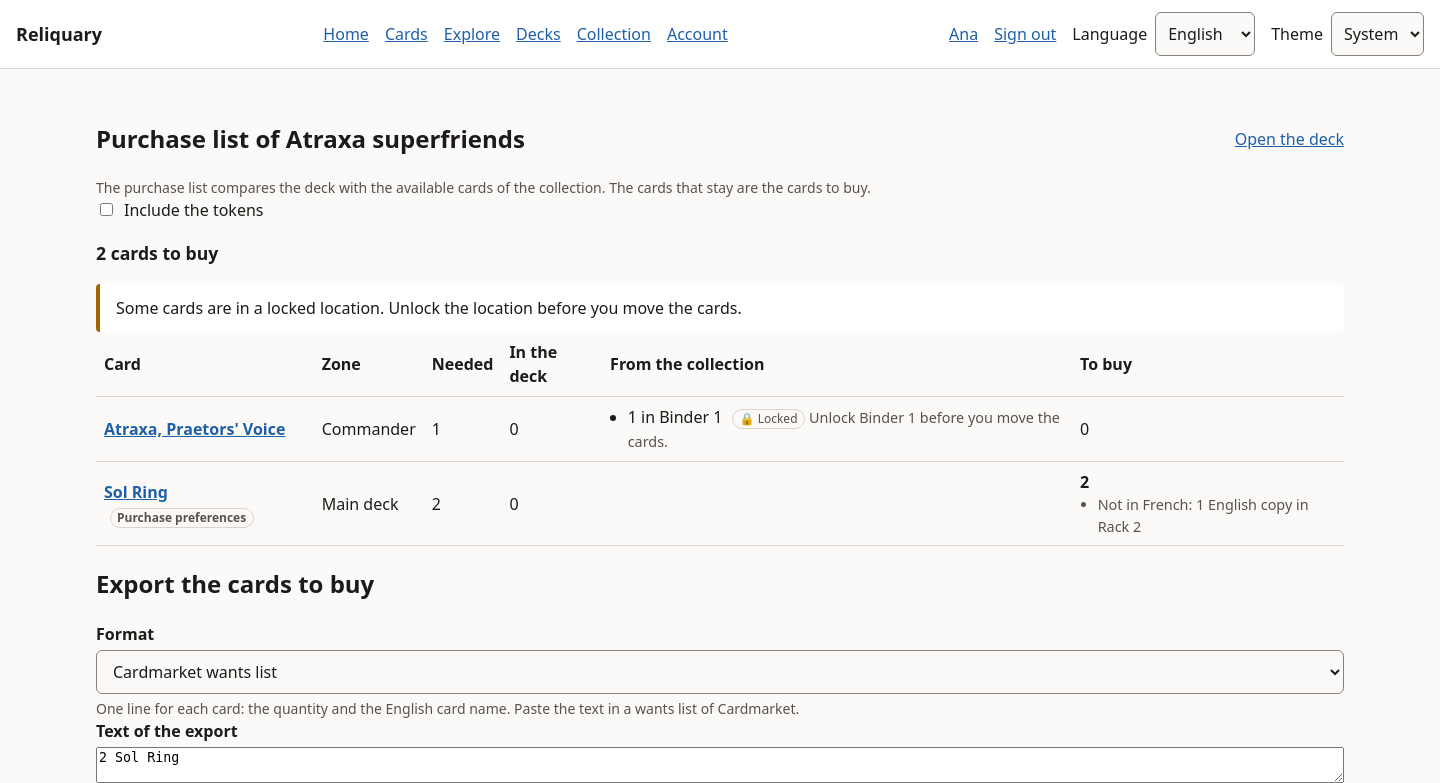
purchase list page › asks for the tokens when the user includes them
The image size is (1440, 783).
Expected: the table named "Lines of the purchase list" is shown, 96,332 -> 1344,546
Click the checkbox labelled "Include the tokens".
click(106, 210)  # box 100,203 -> 113,216
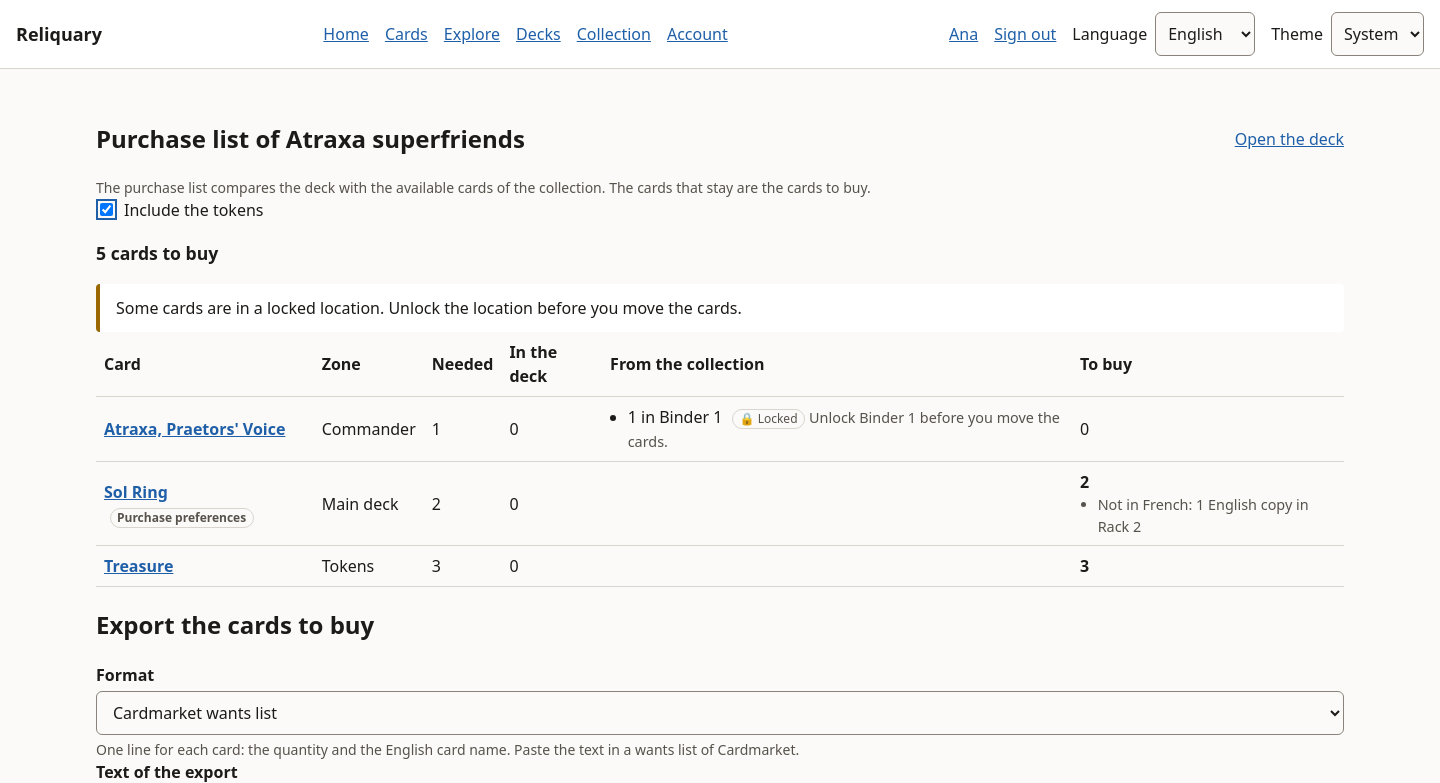
Result: the text "5 cards to buy" is shown at 96,241 -> 218,265
Result: the row "Treasure Tokens 3 0 3" is shown at 96,546 -> 1344,587
